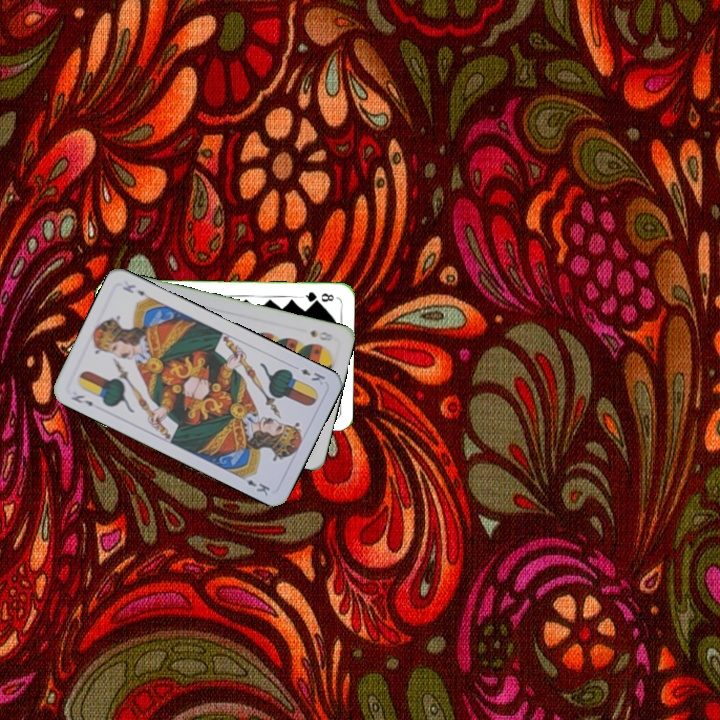EK: (297, 365, 328, 388), (67, 391, 96, 409)
G8: (298, 288, 336, 305)
S8: (306, 326, 335, 344)
